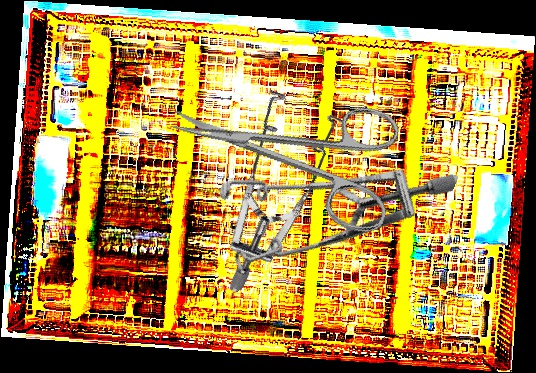Iris Scissors: (156, 55, 413, 239)
Speculum: (195, 95, 459, 333), (150, 66, 388, 295)
